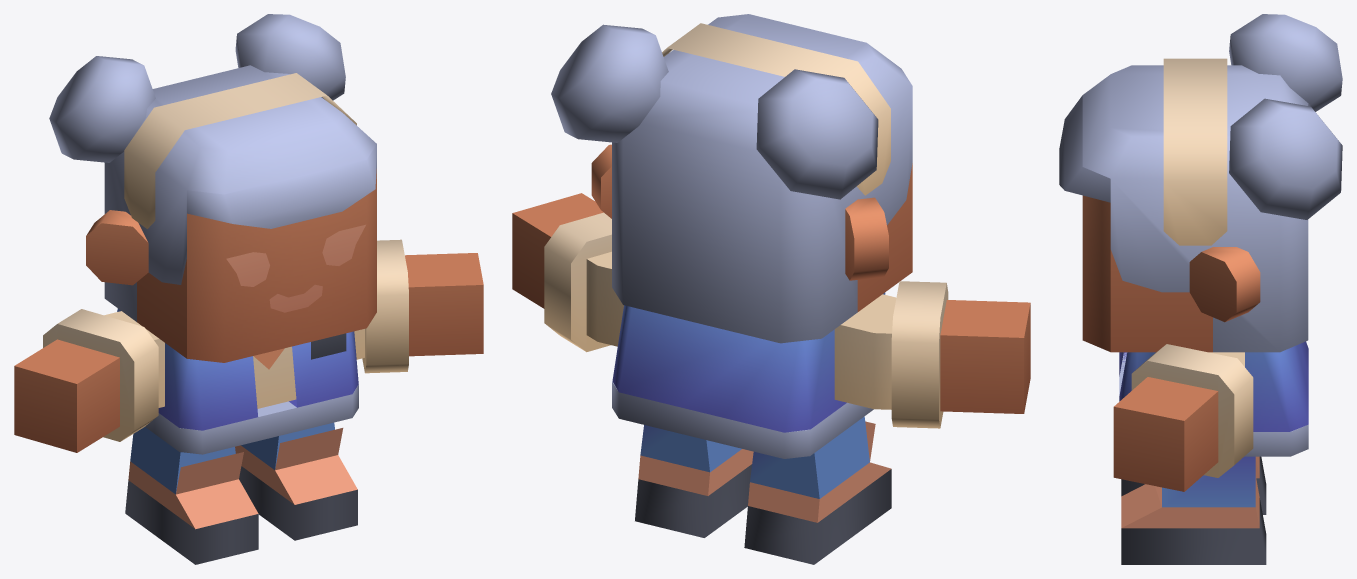
The model's file is character-employee.obj.
3 views of the same model, side by side, from view 1: azimuth 30°, elevation 25°; view 2: azimuth 150°, elevation 25°; view 3: azimuth 270°, elevation 25° (orthographic). The views are drawn at different scales.
Parts seen in each view (by area): view 1: head-mesh, body-mesh; view 2: head-mesh, body-mesh; view 3: head-mesh, body-mesh.
Boxes of the visible parts, bbox=[...] form: head-mesh: bbox=[49, 14, 376, 362]; body-mesh: bbox=[14, 239, 483, 564]; head-mesh: bbox=[551, 14, 912, 343]; body-mesh: bbox=[512, 193, 1030, 564]; head-mesh: bbox=[1059, 14, 1342, 352]; body-mesh: bbox=[1113, 341, 1308, 564].
Size of the model in its own units: 0.7806 by 0.7234 by 0.4014.
